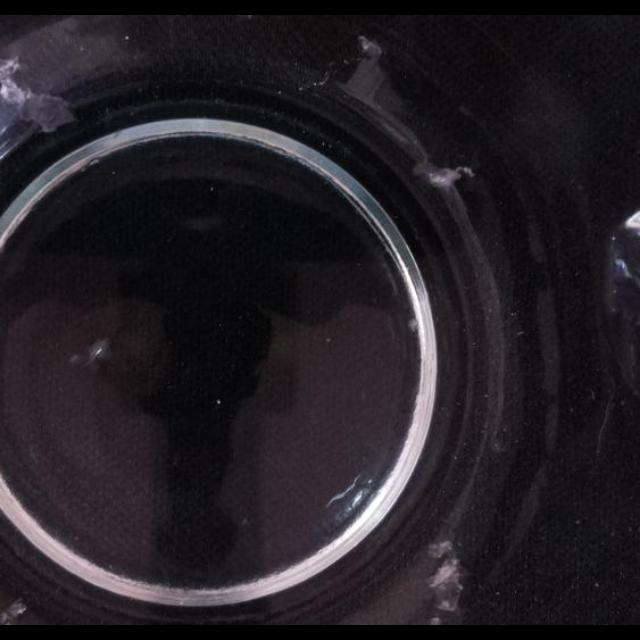Fibre: (2, 54, 76, 148), (418, 537, 474, 623), (428, 162, 476, 200), (0, 598, 28, 624), (357, 36, 381, 58)
microbeads: (408, 318, 418, 332), (240, 516, 248, 526), (516, 329, 526, 337), (216, 399, 222, 405)
